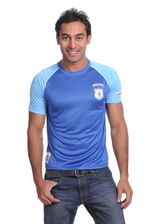clothoes: (26, 60, 124, 170)
